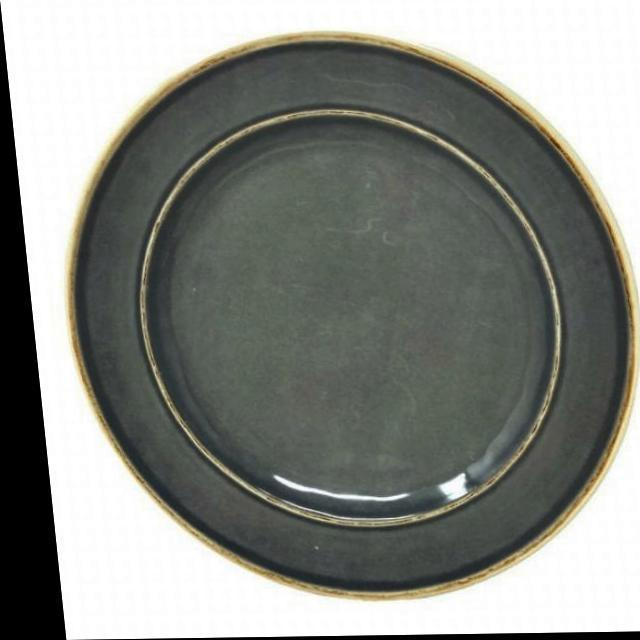plate: (32, 19, 640, 614)
